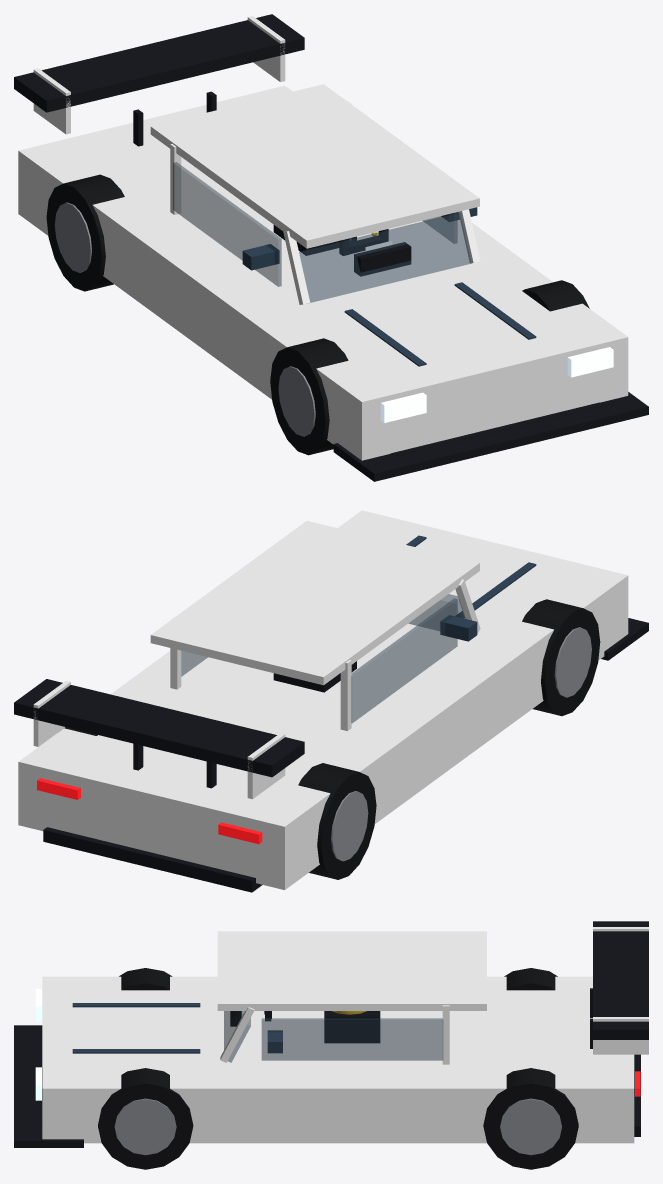
3 renders of one model, top to bottom at view 1: azimuth 30°, elevation 25°; view 2: azimuth 150°, elevation 25°; view 3: azimuth 270°, elevation 25°, orthographic. The views are drawn at different scales.
Parts seen in each view (by area): view 1: body, roof, rear-wing, windscreen, splitter, side-window--1, tyre--1--1, tyre--1-1, rim--1-1, rim--1--1, dashboard, tyre-1-1 (+10 smaller); view 2: body, roof, rear-wing, side-window--1, tyre--1-1, tyre--1--1, floor, rim--1--1, rim--1-1, windscreen, wing-endplate--1, wing-endplate-1 (+7 smaller); view 3: body, roof, side-window-1, rear-wing, tyre-1--1, tyre-1-1, splitter, rim-1--1, rim-1-1, seat, wing-endplate-1, tyre--1--1 (+8 smaller).
Part boxes in pixels (left/top/right/bottom): body: left=18, top=85, right=628, bottom=460; roof: left=150, top=84, right=479, bottom=248; rear-wing: left=14, top=14, right=304, bottom=112; windscreen: left=299, top=213, right=471, bottom=302; splitter: left=333, top=392, right=648, bottom=481; side-window--1: left=173, top=162, right=281, bottom=286; tyre--1--1: left=46, top=174, right=124, bottom=291; tyre--1-1: left=270, top=338, right=348, bottom=455; rim--1-1: left=278, top=366, right=315, bottom=436; rim--1--1: left=54, top=202, right=91, bottom=272; dashboard: left=354, top=242, right=411, bottom=276; tyre-1-1: left=522, top=280, right=589, bottom=311; body: left=18, top=510, right=628, bottom=889; roof: left=150, top=521, right=479, bottom=685; rear-wing: left=14, top=679, right=304, bottom=777; side-window--1: left=351, top=598, right=457, bottom=723; tyre--1-1: left=522, top=599, right=600, bottom=716; tyre--1--1: left=298, top=763, right=376, bottom=879; floor: left=43, top=827, right=262, bottom=892; rim--1--1: left=331, top=791, right=368, bottom=861; rim--1-1: left=554, top=627, right=591, bottom=697; windscreen: left=408, top=594, right=465, bottom=630; wing-endplate--1: left=247, top=733, right=285, bottom=799; wing-endplate-1: left=33, top=681, right=70, bottom=746; body: left=42, top=976, right=634, bottom=1143; roof: left=217, top=931, right=486, bottom=1010; side-window-1: left=261, top=1018, right=443, bottom=1060; rear-wing: left=593, top=921, right=648, bottom=1039; tyre-1--1: left=483, top=1068, right=578, bottom=1169; tyre-1-1: left=98, top=1068, right=193, bottom=1169; splitter: left=14, top=1025, right=83, bottom=1147; rim-1--1: left=500, top=1098, right=561, bottom=1155; rim-1-1: left=114, top=1098, right=176, bottom=1155; seat: left=324, top=1011, right=380, bottom=1043; wing-endplate-1: left=593, top=1017, right=648, bottom=1054; tyre--1--1: left=504, top=968, right=557, bottom=990.
Size of the model in its own units: 1.97 by 1.14 by 4.53.
